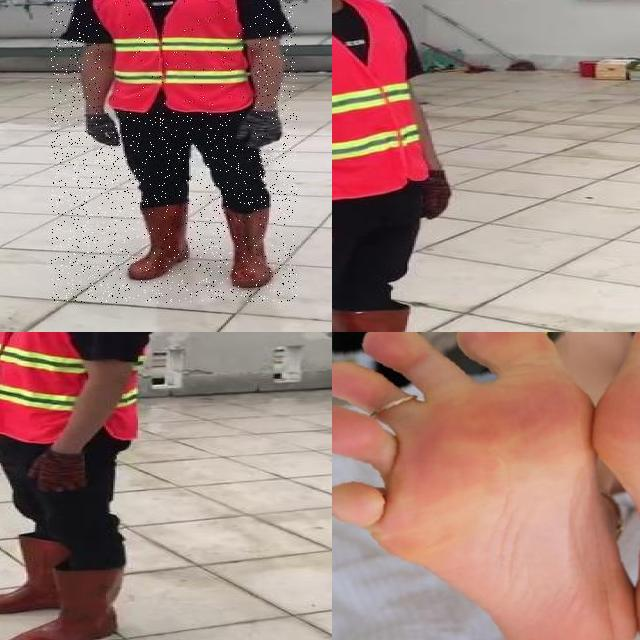Barefoots: (332, 332, 640, 640)
boots: (4, 566, 122, 640), (0, 535, 70, 616), (130, 202, 192, 281), (224, 208, 276, 290), (332, 309, 462, 332)
hand_glove: (28, 453, 86, 492), (419, 169, 454, 221)
person: (51, 0, 297, 303), (0, 332, 165, 640), (332, 0, 481, 332)
vest: (332, 0, 426, 201), (100, 0, 255, 112), (0, 332, 152, 445)
